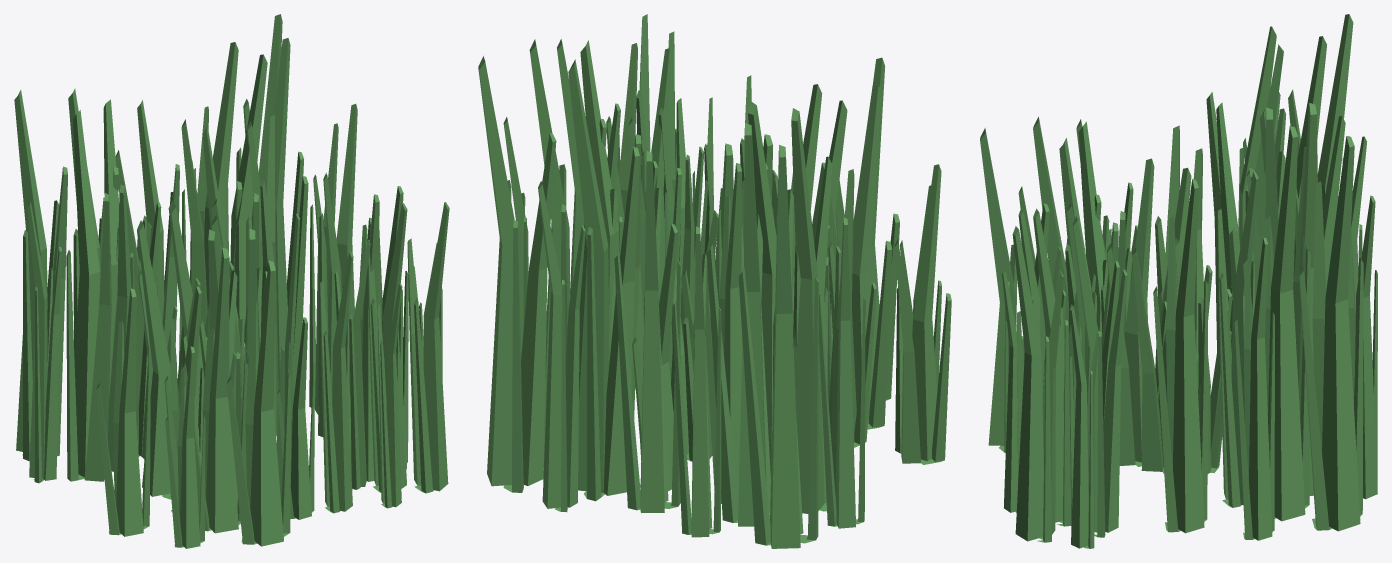
Rendered from 04 Grass Tall.fbx.
The picture shows the model from 3 angles, left to right: view 1: azimuth 30°, elevation 25°; view 2: azimuth 150°, elevation 25°; view 3: azimuth 270°, elevation 25°; orthographic projection. The views are drawn at different scales.
Visible parts, largest first — view 1: 04 Grass Tall; view 2: 04 Grass Tall; view 3: 04 Grass Tall.
Part boxes in pixels (x1,y1,x2,y2): 04 Grass Tall: (14, 14, 449, 548); 04 Grass Tall: (478, 14, 951, 548); 04 Grass Tall: (980, 14, 1377, 548).
Bounding box in the file's own units: 96.4 × 102 × 93.26.
